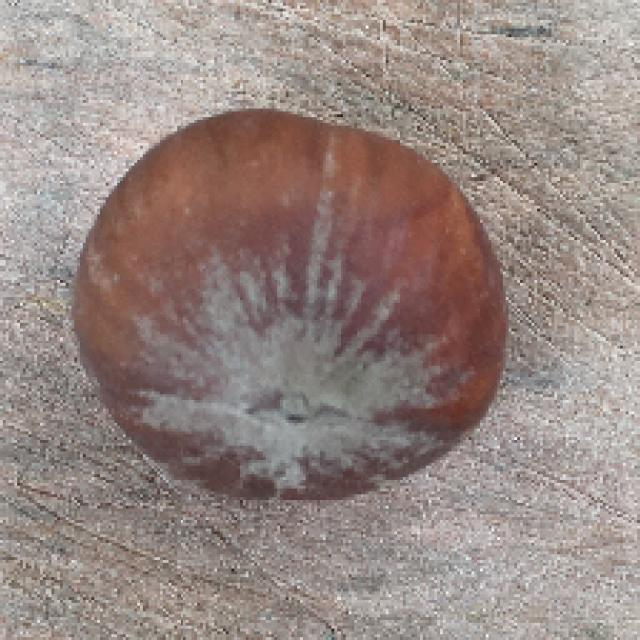DamagedHazelnut: (70, 112, 510, 502)
